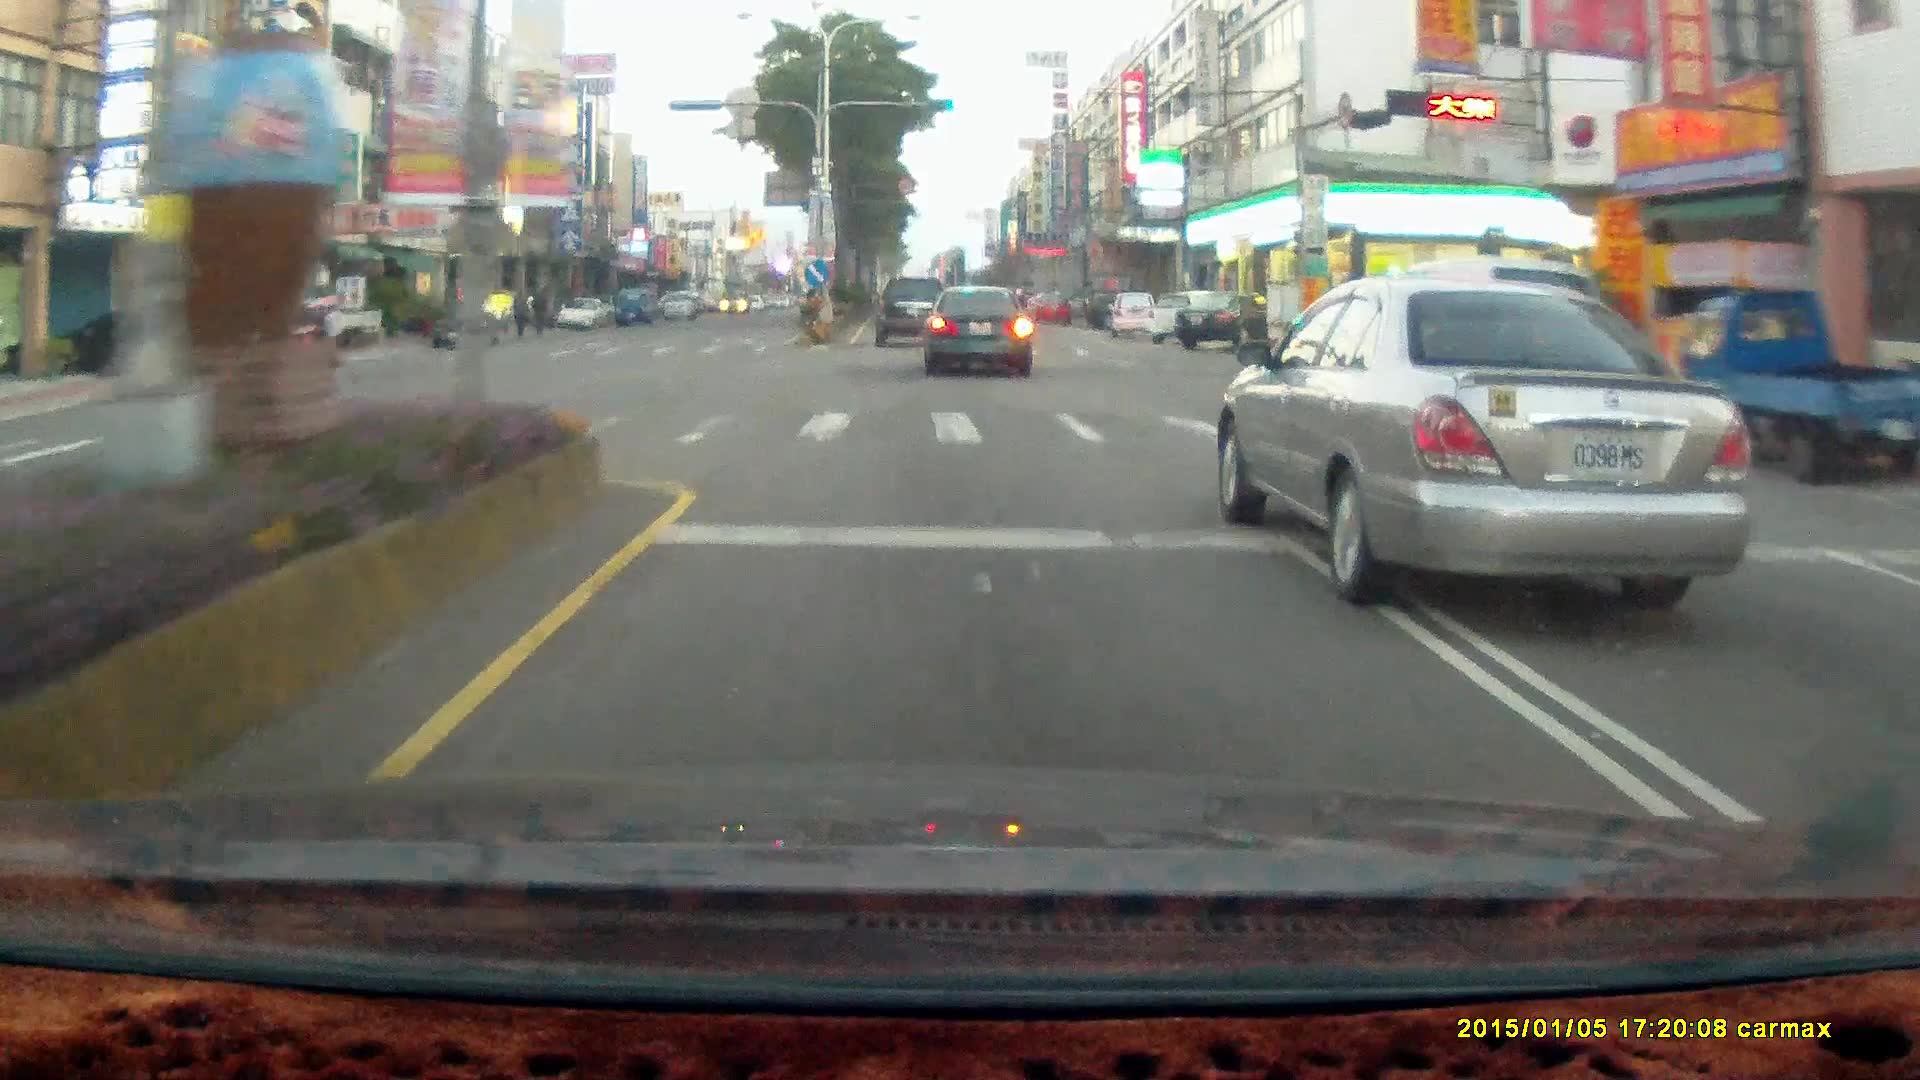pedestrian: (507, 288, 529, 339), (509, 288, 532, 338), (530, 285, 551, 337), (528, 286, 548, 338)
vehicle: (1216, 278, 1752, 597), (1349, 259, 1629, 441), (1676, 285, 1919, 490), (1682, 286, 1920, 492), (38, 308, 231, 375), (59, 302, 224, 375), (923, 287, 1034, 382), (921, 284, 1029, 377), (249, 292, 386, 363), (227, 292, 380, 355), (1172, 290, 1284, 350), (1175, 293, 1272, 352), (873, 277, 948, 350), (873, 276, 949, 347), (1144, 291, 1223, 344), (428, 304, 506, 353), (429, 308, 498, 347), (1109, 294, 1162, 344), (1103, 291, 1158, 339), (1078, 287, 1140, 328), (555, 298, 610, 332), (556, 295, 606, 327), (614, 290, 651, 324), (1028, 293, 1067, 325), (653, 291, 686, 317)
